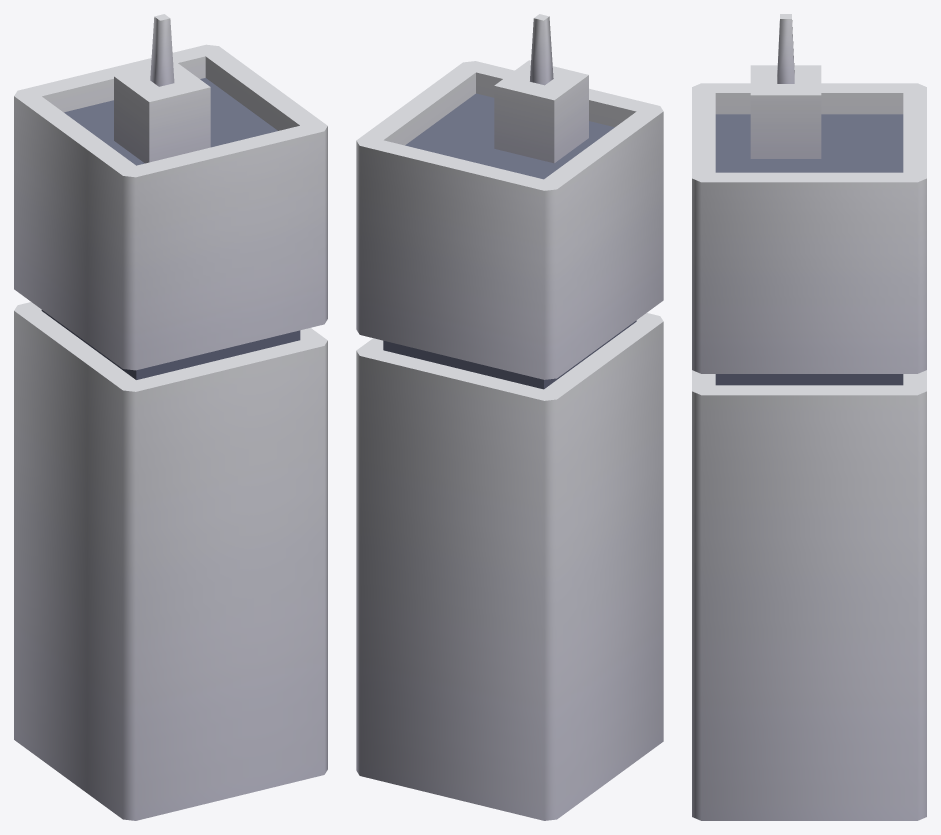
Rendered from low-detail-building-d.glb.
3 renders of one model, left to right at view 1: azimuth 30°, elevation 25°; view 2: azimuth 150°, elevation 25°; view 3: azimuth 270°, elevation 25°, orthographic. The views are drawn at different scales.
Visible parts, largest first — view 1: low-detail-building-d; view 2: low-detail-building-d; view 3: low-detail-building-d.
Part boxes in pixels (x1,y1,x2,y2): low-detail-building-d: (14, 14, 327, 820); low-detail-building-d: (356, 14, 663, 820); low-detail-building-d: (692, 14, 926, 820).
Bounding box in the file's own units: 0.4999 × 1.75 × 0.4999.
1 material, 1 textured.
